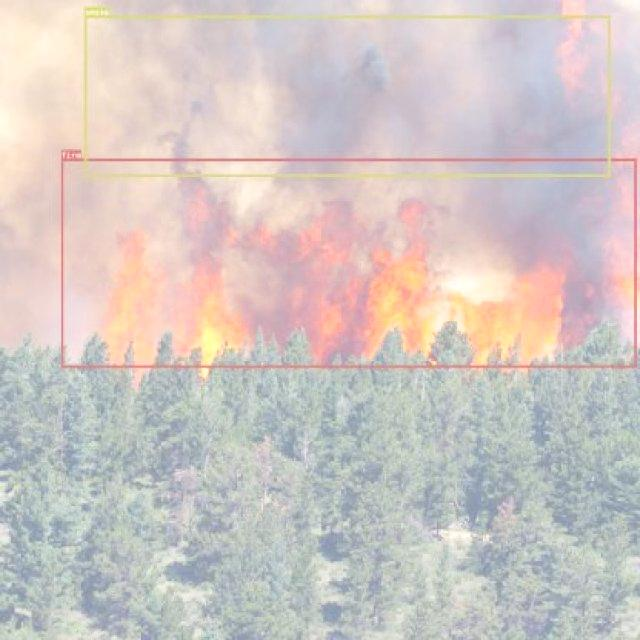fire: (59, 158, 636, 367)
smoke: (84, 15, 610, 176)
